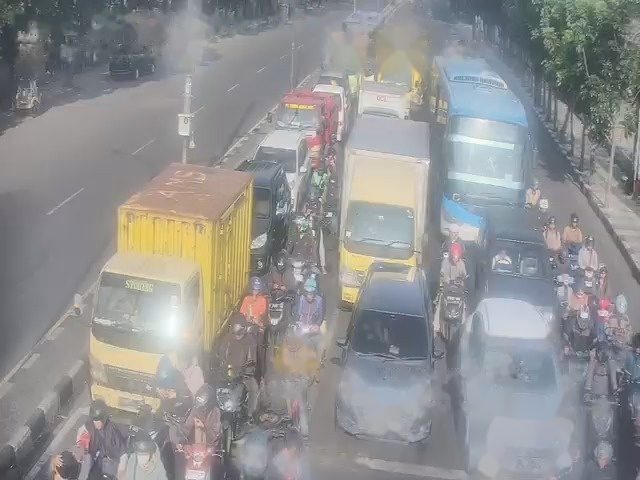Bis: (432, 58, 527, 237)
Mobil: (468, 303, 574, 474), (350, 264, 437, 446), (480, 213, 558, 298), (246, 151, 287, 250), (262, 124, 296, 189)
Motor: (236, 426, 298, 480), (588, 399, 614, 456), (283, 321, 307, 374), (569, 294, 591, 351), (218, 378, 238, 426), (182, 445, 209, 480), (561, 273, 578, 312), (269, 296, 281, 332), (446, 287, 459, 318), (566, 242, 579, 264), (292, 259, 304, 282), (309, 188, 316, 216), (580, 270, 590, 289)
Truk: (96, 181, 239, 410), (345, 115, 433, 280), (278, 90, 328, 150)
